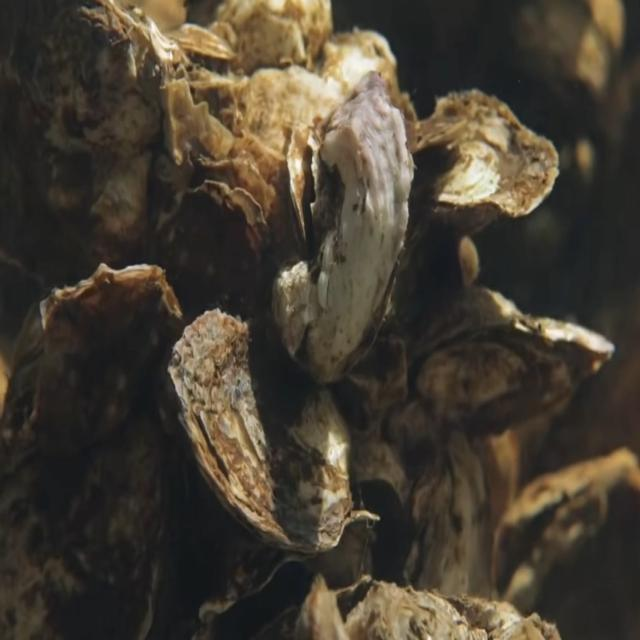Oyster-Closed: (0, 262, 184, 640), (165, 307, 356, 556), (270, 70, 414, 386), (407, 286, 640, 439), (398, 89, 559, 270), (401, 428, 494, 640)
Oyster-Indeterminate: (0, 1, 216, 367), (153, 180, 272, 332)
Oyster-Open: (489, 448, 640, 640), (198, 509, 381, 640)
